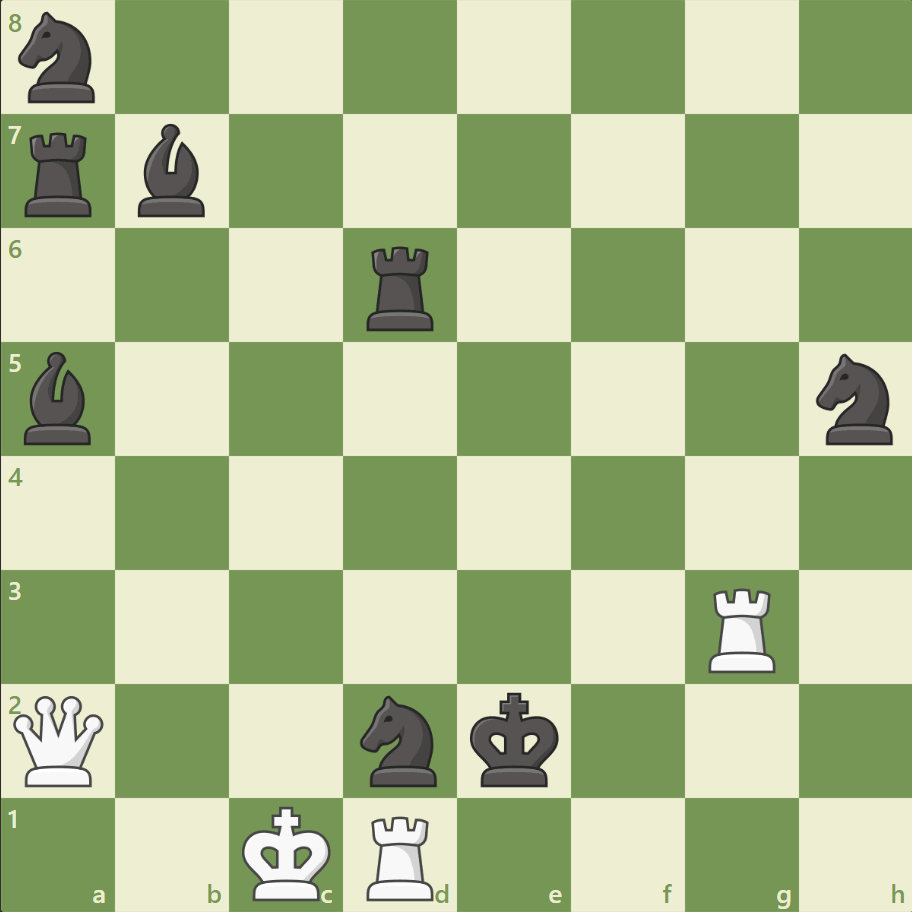K: (238, 798, 338, 906)
Q: (10, 690, 109, 789)
R: (700, 579, 783, 676), (360, 806, 442, 904)
b: (131, 120, 215, 222), (17, 347, 101, 449)
k: (465, 685, 565, 793)
n: (351, 688, 449, 791), (11, 7, 108, 110), (806, 348, 903, 450)
r: (19, 125, 102, 222), (360, 239, 442, 336)
